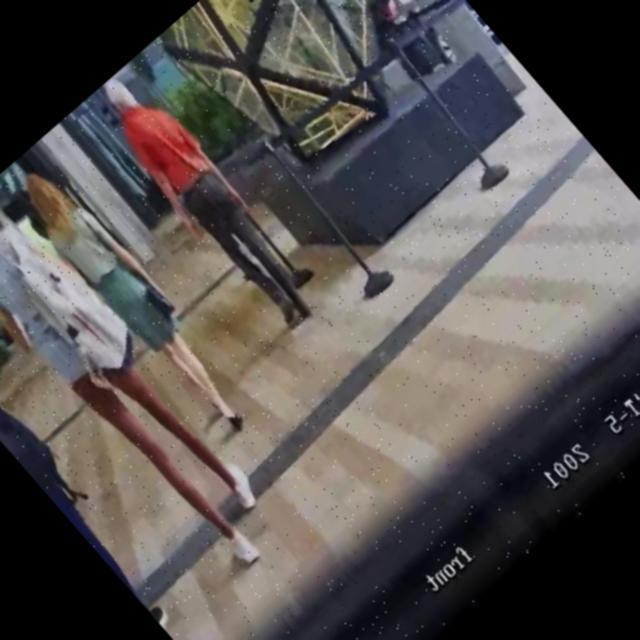person: (0, 178, 298, 587), (3, 156, 266, 446), (80, 61, 334, 340), (0, 309, 190, 630)
